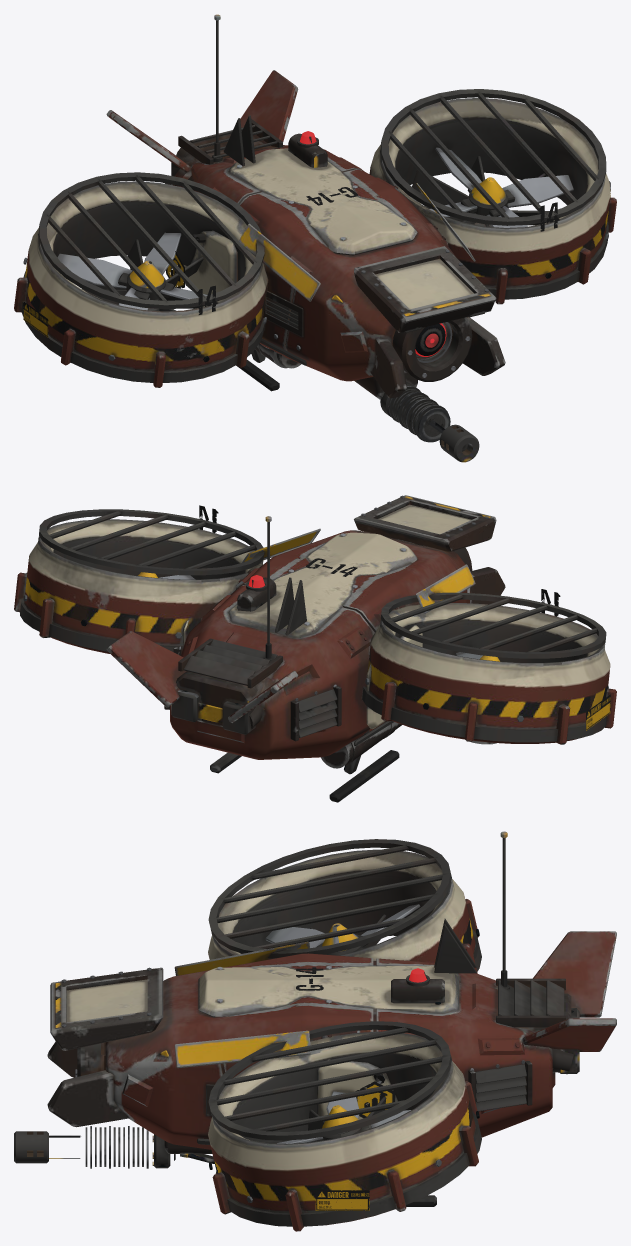
File: SM_enemy_drone.fbx
3 views of the same model, one above another, from view 1: azimuth 30°, elevation 25°; view 2: azimuth 150°, elevation 25°; view 3: azimuth 270°, elevation 25° (orthographic). The views are drawn at different scales.
Visible parts, largest first — view 1: body_geo, fanblades_1_geo, fanblades_0_geo, body_decals, rotor_geo, rotor_1_geo, eye_geo; view 2: body_geo, body_decals; view 3: body_geo, body_decals, fanblades_1_geo, fanblades_0_geo.
Boxes of the visible parts, x1=… form: body_geo: x1=14, y1=14, x2=616, y2=462; fanblades_1_geo: x1=57, y1=232, x2=212, y2=310; fanblades_0_geo: x1=429, y1=147, x2=573, y2=227; body_decals: x1=23, y1=181, x2=610, y2=337; rotor_geo: x1=468, y1=177, x2=507, y2=215; rotor_1_geo: x1=126, y1=260, x2=166, y2=299; eye_geo: x1=415, y1=322, x2=446, y2=357; body_geo: x1=14, y1=495, x2=616, y2=802; body_decals: x1=26, y1=505, x2=610, y2=730; body_geo: x1=14, y1=831, x2=616, y2=1231; body_decals: x1=296, y1=967, x2=395, y2=1210; fanblades_1_geo: x1=265, y1=904, x2=420, y2=950; fanblades_0_geo: x1=277, y1=1091, x2=410, y2=1143.
Bounding box in the file's own units: 2.63 × 1.34 × 2.24.
3 materials, 3 textured.
